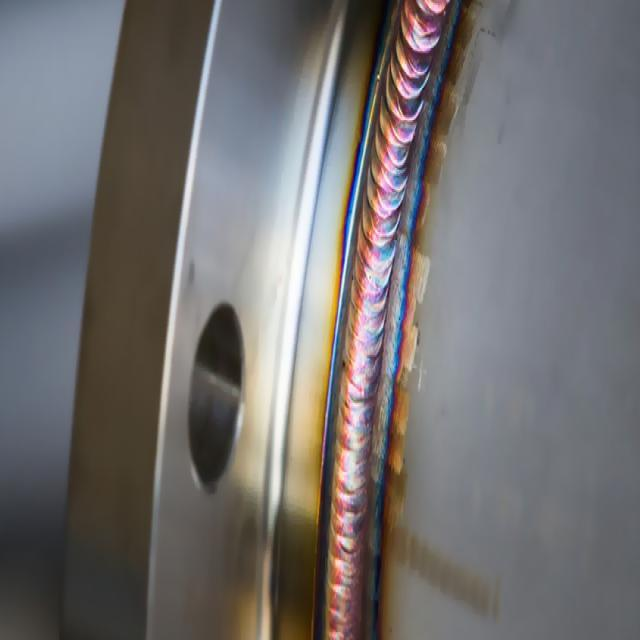Good Welding: (320, 3, 456, 638)
